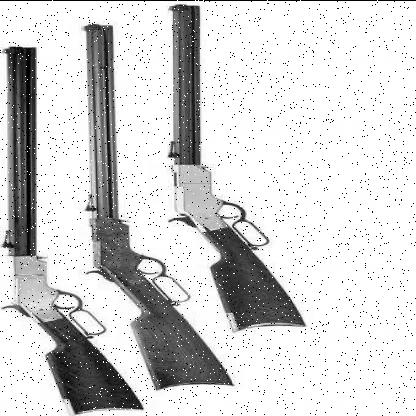rifle: (49, 8, 254, 390), (0, 43, 152, 413), (150, 1, 313, 329)
